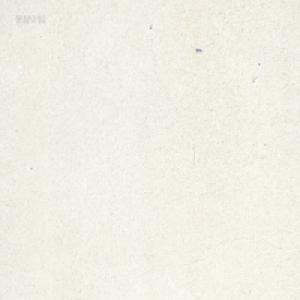Nail: (195, 47, 201, 52)
